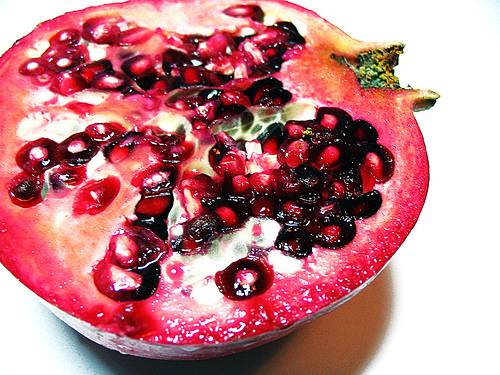pomogranate: (0, 0, 441, 358)
